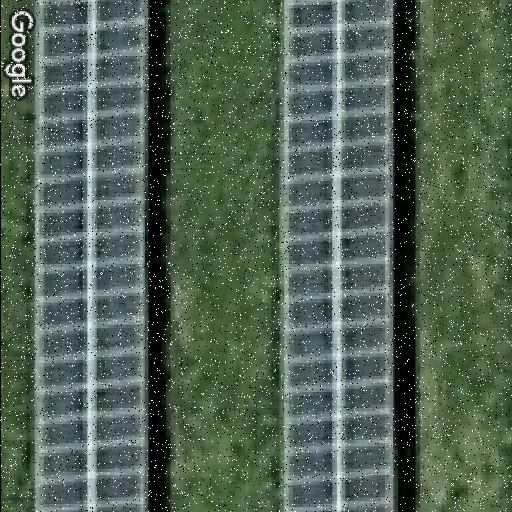solar-panel: (30, 0, 152, 512), (280, 0, 398, 512)
